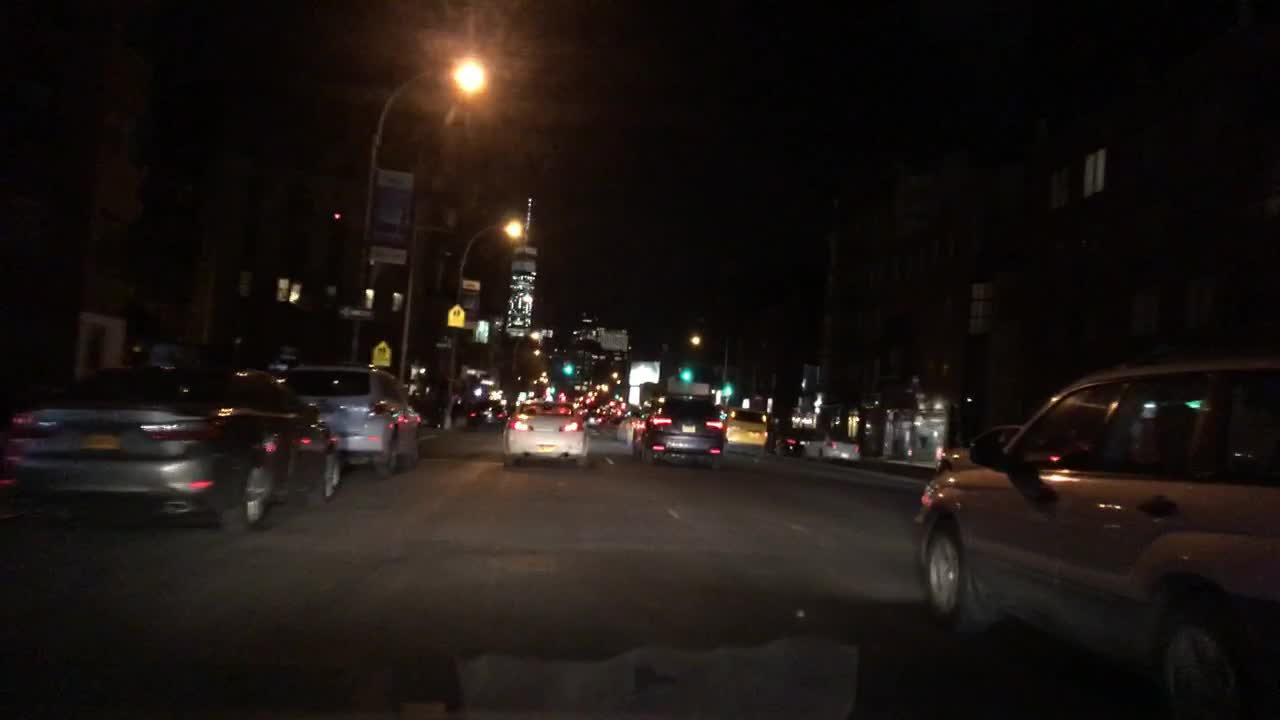car: (916, 355, 1278, 718), (7, 365, 345, 538), (284, 360, 425, 477), (643, 397, 726, 477), (503, 396, 589, 466), (804, 427, 863, 465), (723, 407, 768, 452), (469, 400, 506, 429), (778, 428, 813, 452), (620, 414, 648, 442), (577, 405, 604, 428)
traffic light: (718, 379, 732, 400), (561, 359, 575, 373), (681, 365, 692, 382), (545, 384, 556, 393)
traffic sign: (370, 341, 392, 372), (444, 304, 465, 329)
